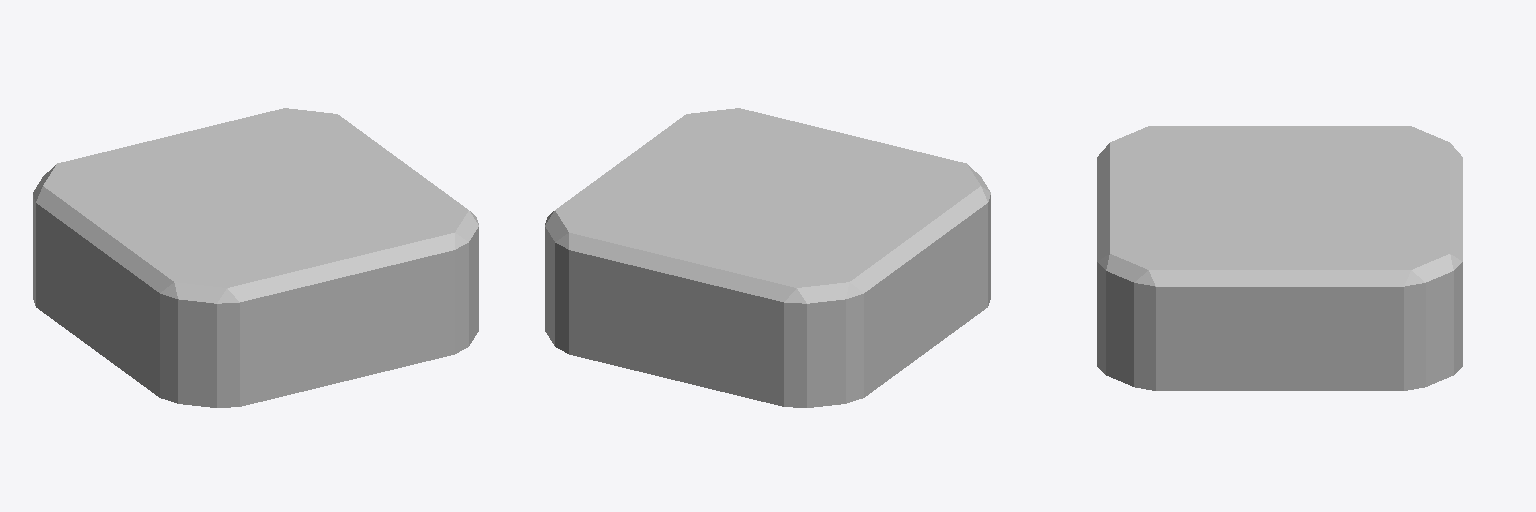
The model's file is KeyCapSquare.obj.
The picture shows the model from 3 angles: view 1: azimuth 30°, elevation 25°; view 2: azimuth 150°, elevation 25°; view 3: azimuth 270°, elevation 25°; orthographic projection.
Visible parts, largest first — view 1: KeyCapSquare; view 2: KeyCapSquare; view 3: KeyCapSquare.
Part boxes in pixels (x1,y1,x2,y2): KeyCapSquare: (33,108,478,407); KeyCapSquare: (545,108,990,407); KeyCapSquare: (1097,126,1462,390).
Size of the model in its own units: 1 by 0.35 by 1.